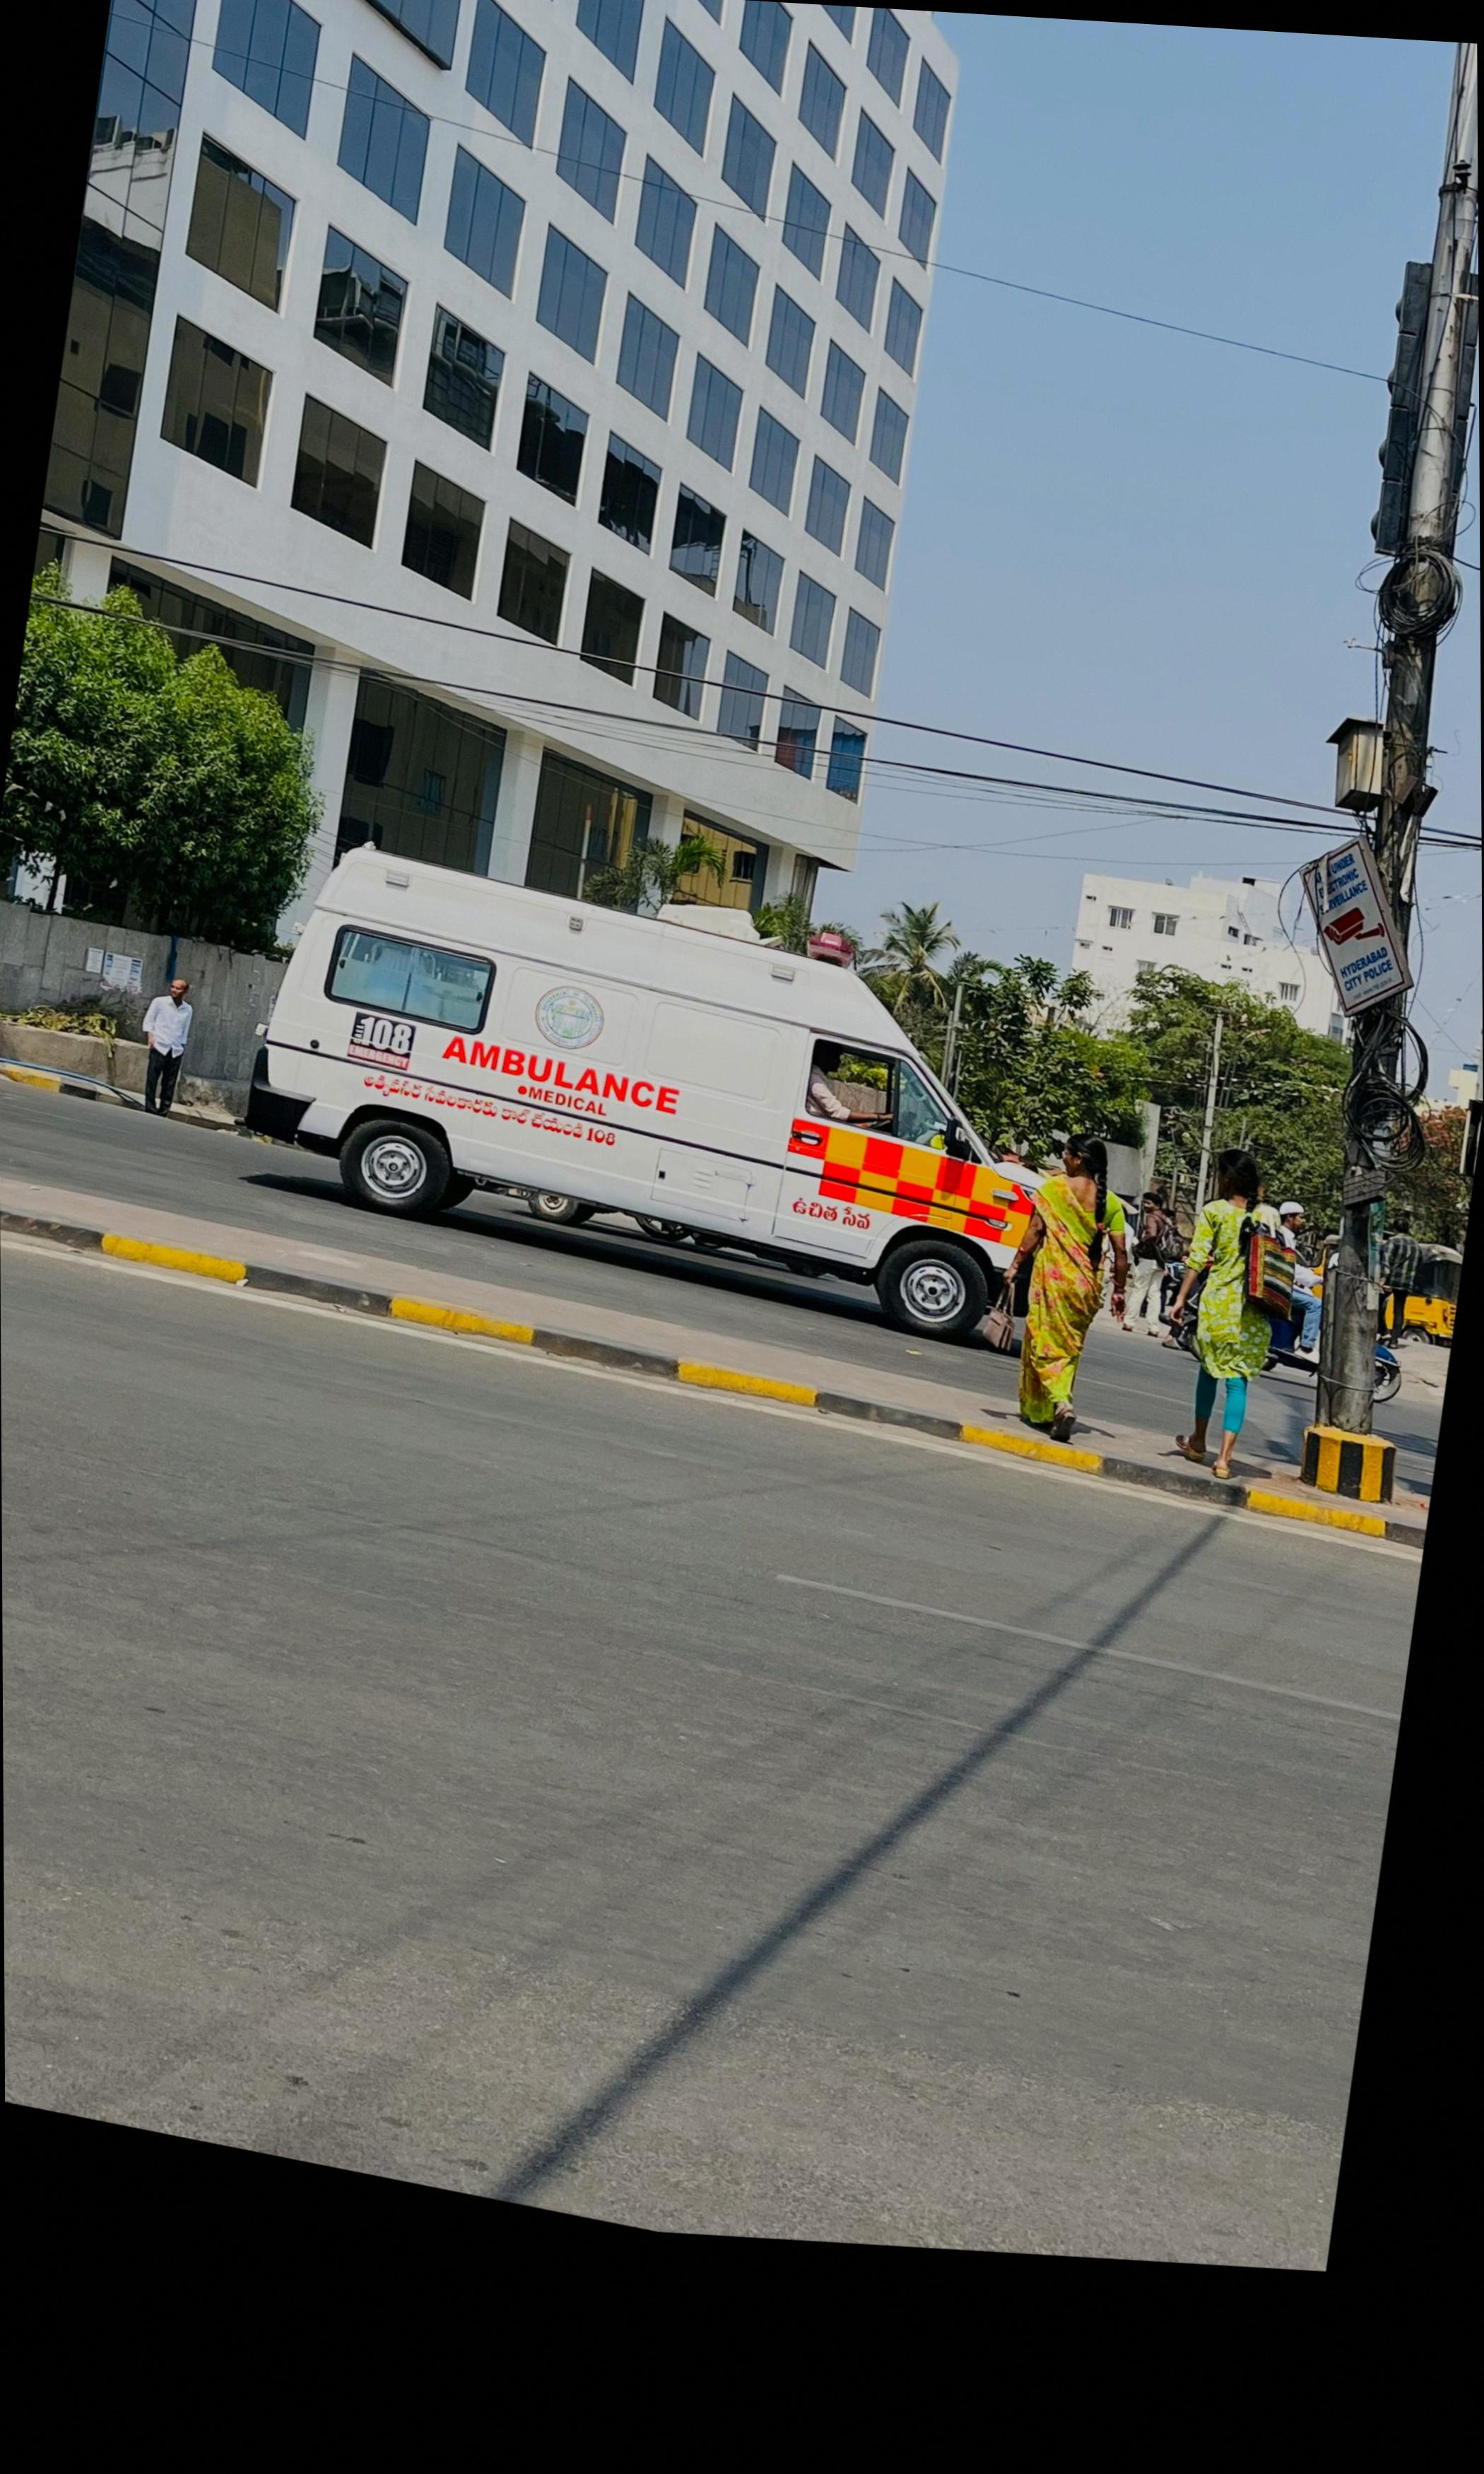ambulance: (270, 850, 1039, 1345)
